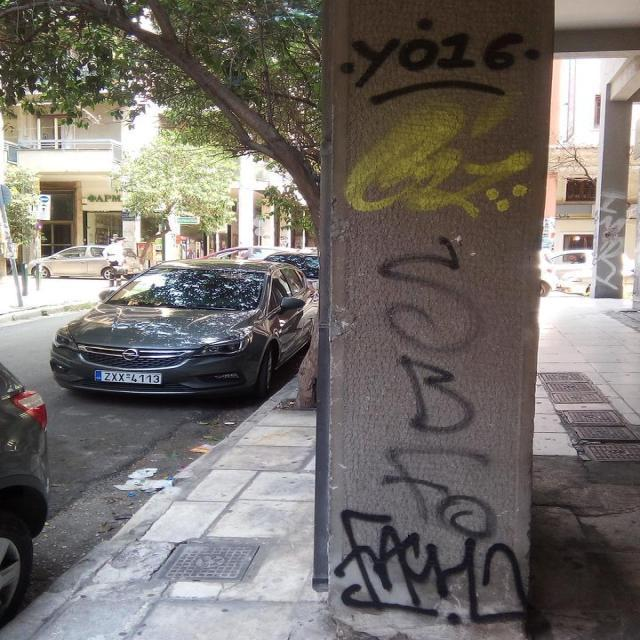nonspitting: (378, 234, 496, 538), (344, 90, 532, 214), (336, 510, 528, 626), (340, 16, 542, 105)
